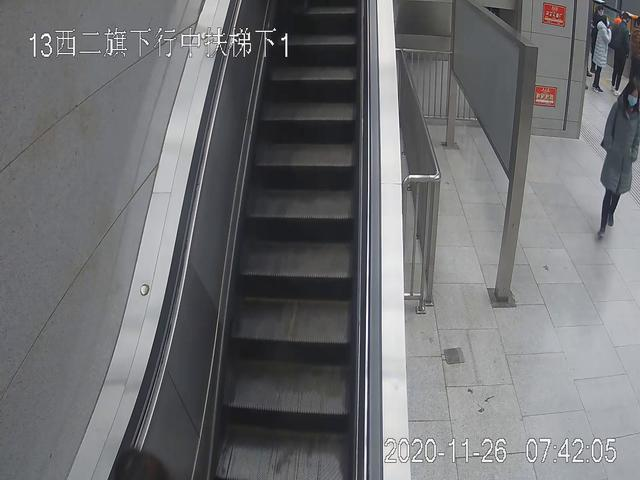person: (599, 79, 640, 241), (609, 12, 632, 93), (591, 15, 608, 90)
